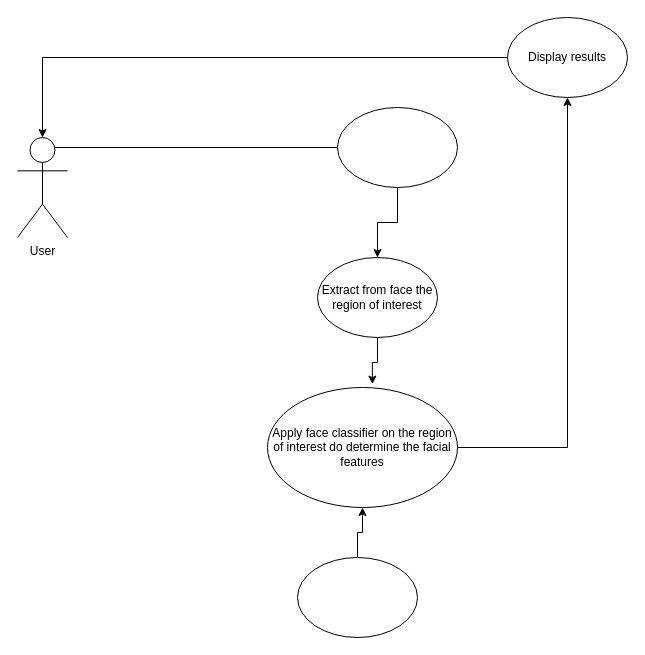
Image size: 645x655. Some labels were removed from this diagram. Here are the shapes that lost their labels. From the top down, the centre of each, then its label:
pixel 397 147: Detect face in image/video stream
pixel 357 597: Load face classifier from disk
